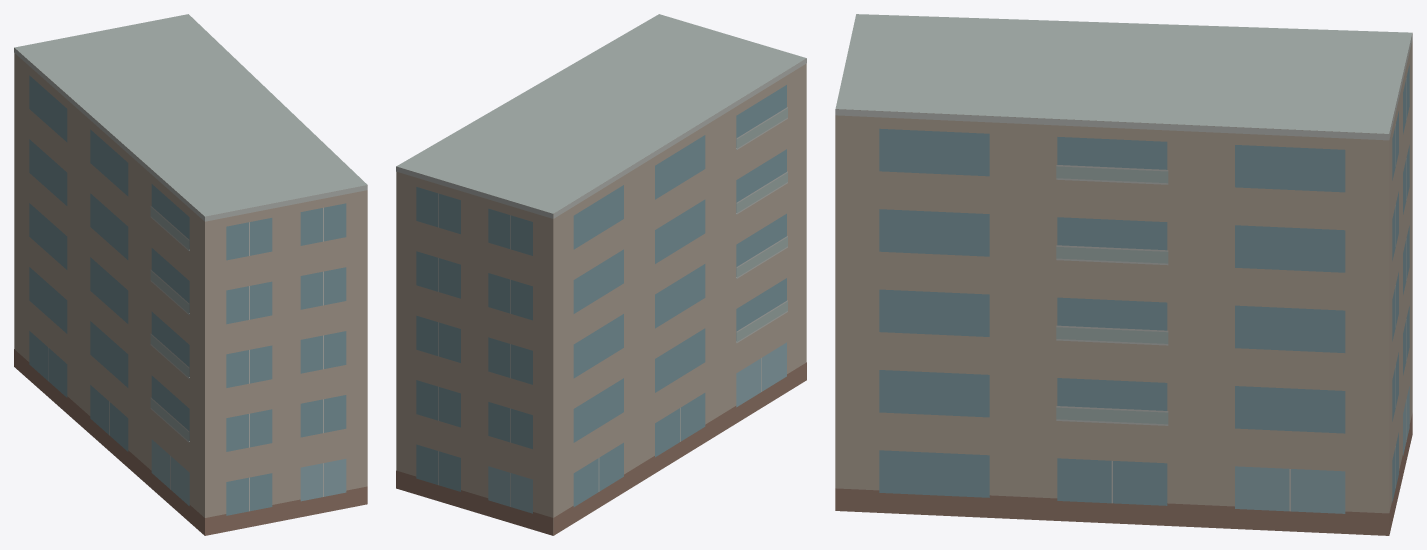
File: survey-upis-32533190.glb
3 renders of one model, left to right at view 1: azimuth 30°, elevation 25°; view 2: azimuth 150°, elevation 25°; view 3: azimuth 270°, elevation 25°, orthographic. The views are drawn at different scales.
Parts seen in each view (by area): view 1: survey-upis-32533190.tmp; view 2: survey-upis-32533190.tmp; view 3: survey-upis-32533190.tmp.
Boxes of the visible parts, x1,y1,x2,y2 form: survey-upis-32533190.tmp: (14,14,367,535); survey-upis-32533190.tmp: (396,14,806,535); survey-upis-32533190.tmp: (835,14,1412,535).
Bounding box in the file's own units: 9.78 × 15.25 × 19.86.
